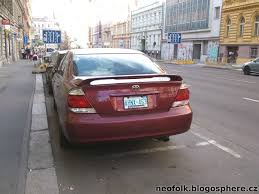licence-plate: (125, 96, 149, 107)
